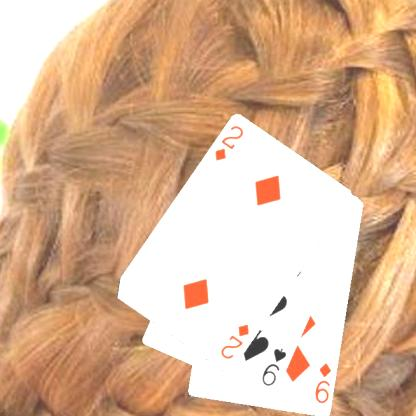2D: (212, 123, 245, 163), (218, 322, 250, 362)
9D: (312, 360, 333, 405)
9S: (259, 345, 288, 388)
